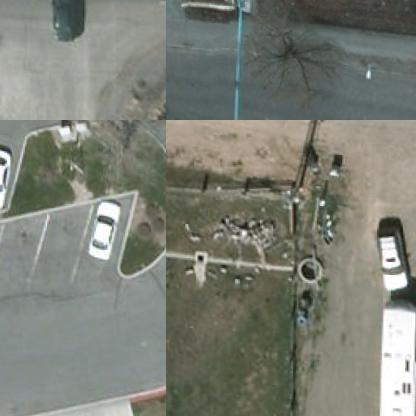camping car: (377, 299, 415, 415)
car: (76, 194, 126, 260), (368, 218, 412, 282), (46, 0, 82, 41), (0, 143, 11, 211)
